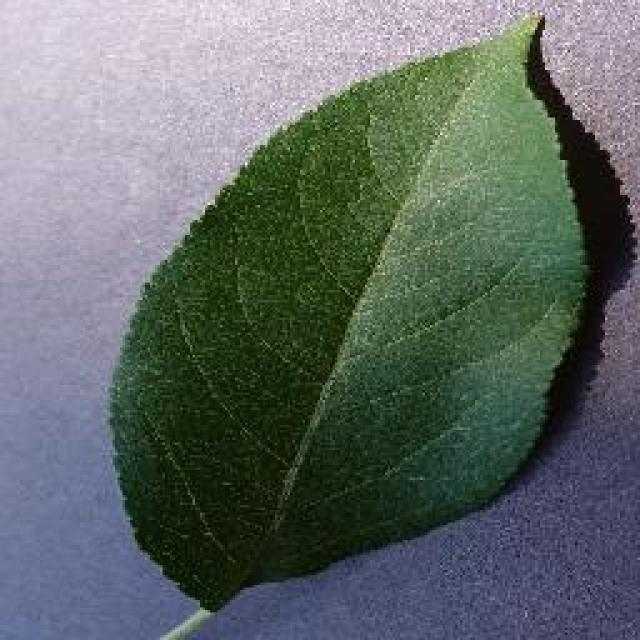apple healthy: (102, 8, 600, 612)
